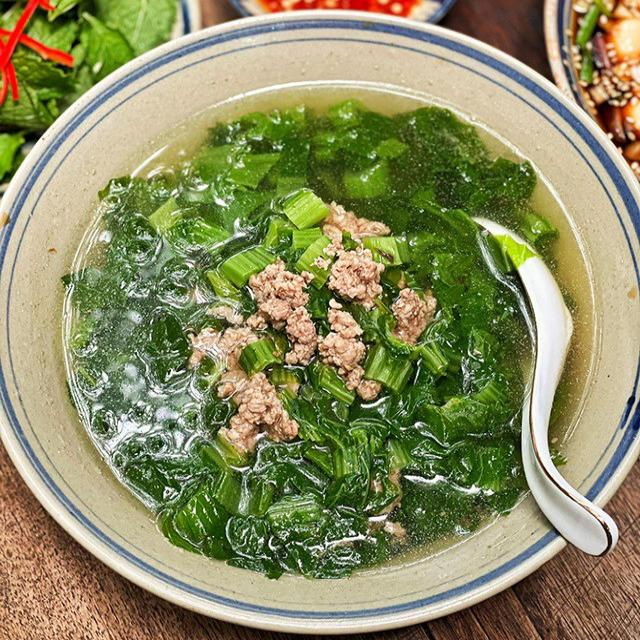canh cai: (61, 100, 556, 579)
